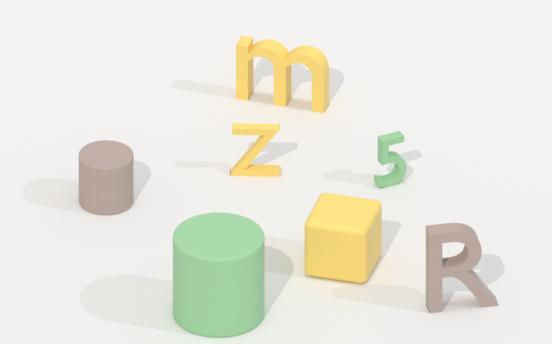5: (371, 129, 413, 188)
R-hoa: (418, 222, 503, 319)
hop: (297, 193, 386, 286)
m: (232, 34, 334, 115)
tru: (170, 210, 266, 339), (77, 139, 138, 219)
z: (225, 121, 284, 181)
